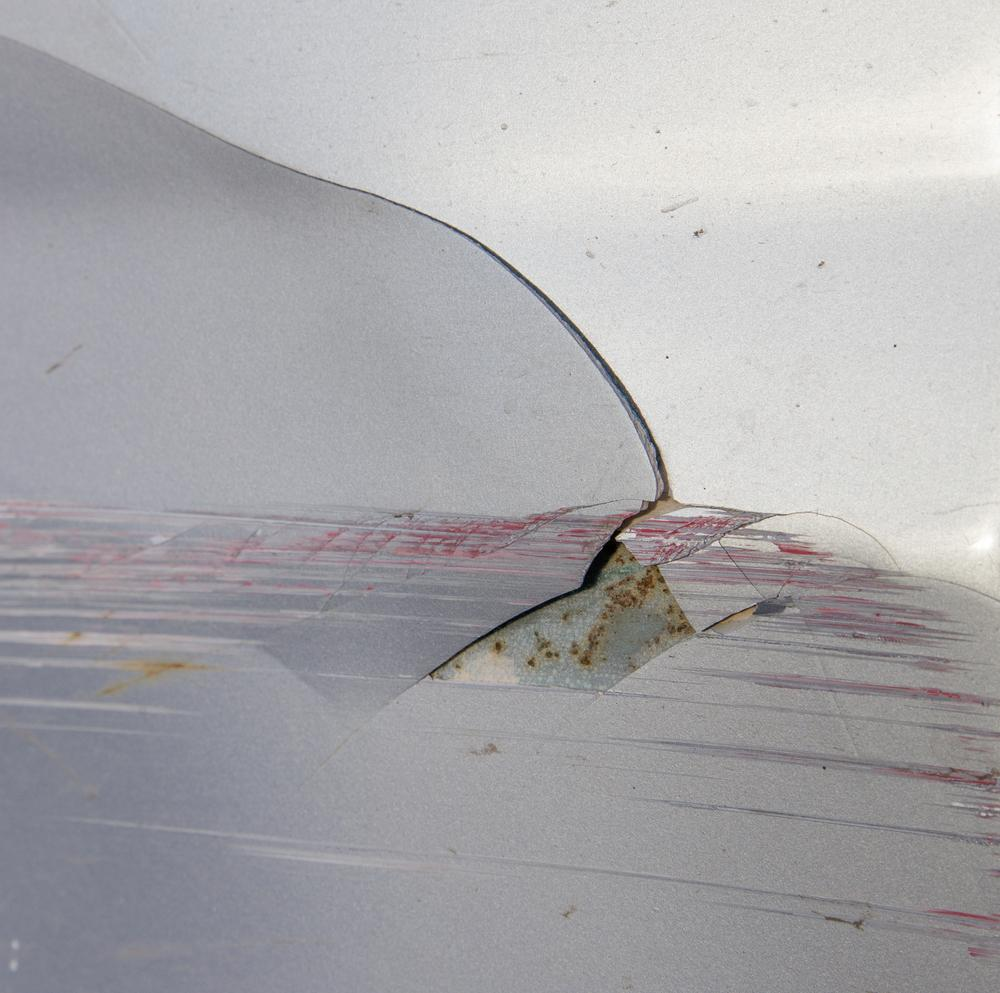crack: (0, 32, 680, 689)
scratch: (0, 494, 1000, 973)
